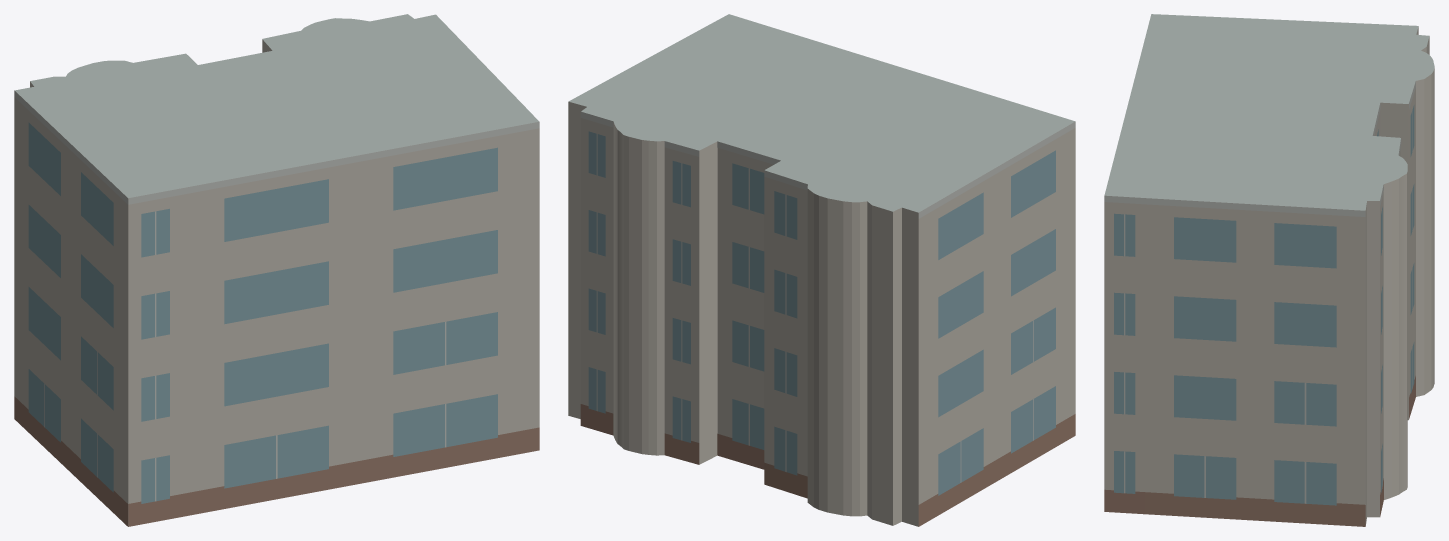
File: survey-upis-32664555.glb
3 renders of one model, left to right at view 1: azimuth 30°, elevation 25°; view 2: azimuth 150°, elevation 25°; view 3: azimuth 270°, elevation 25°, orthographic. The views are drawn at different scales.
Parts seen in each view (by area): view 1: survey-upis-32664555.tmp; view 2: survey-upis-32664555.tmp; view 3: survey-upis-32664555.tmp.
Boxes of the visible parts, left/top/right/bottom form: survey-upis-32664555.tmp: left=14, top=14, right=539, bottom=526; survey-upis-32664555.tmp: left=568, top=14, right=1075, bottom=526; survey-upis-32664555.tmp: left=1104, top=14, right=1434, bottom=526.
Size of the model in its own units: 16.29 by 12.2 by 11.56.
